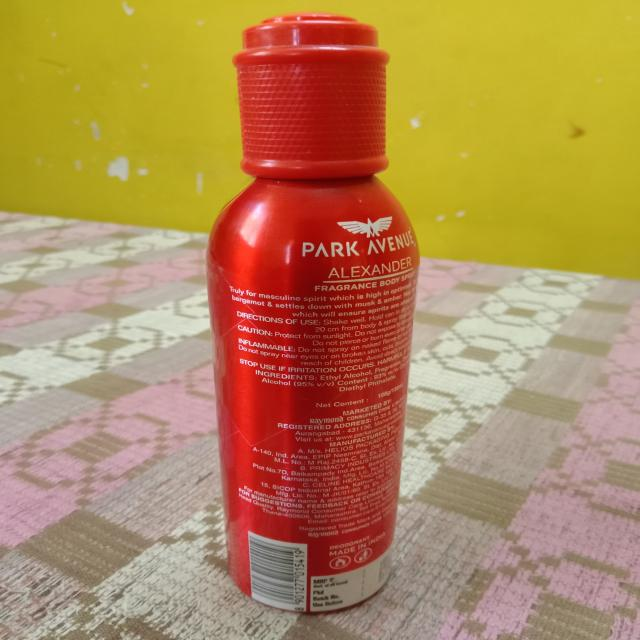deodorant: (207, 22, 419, 610)
